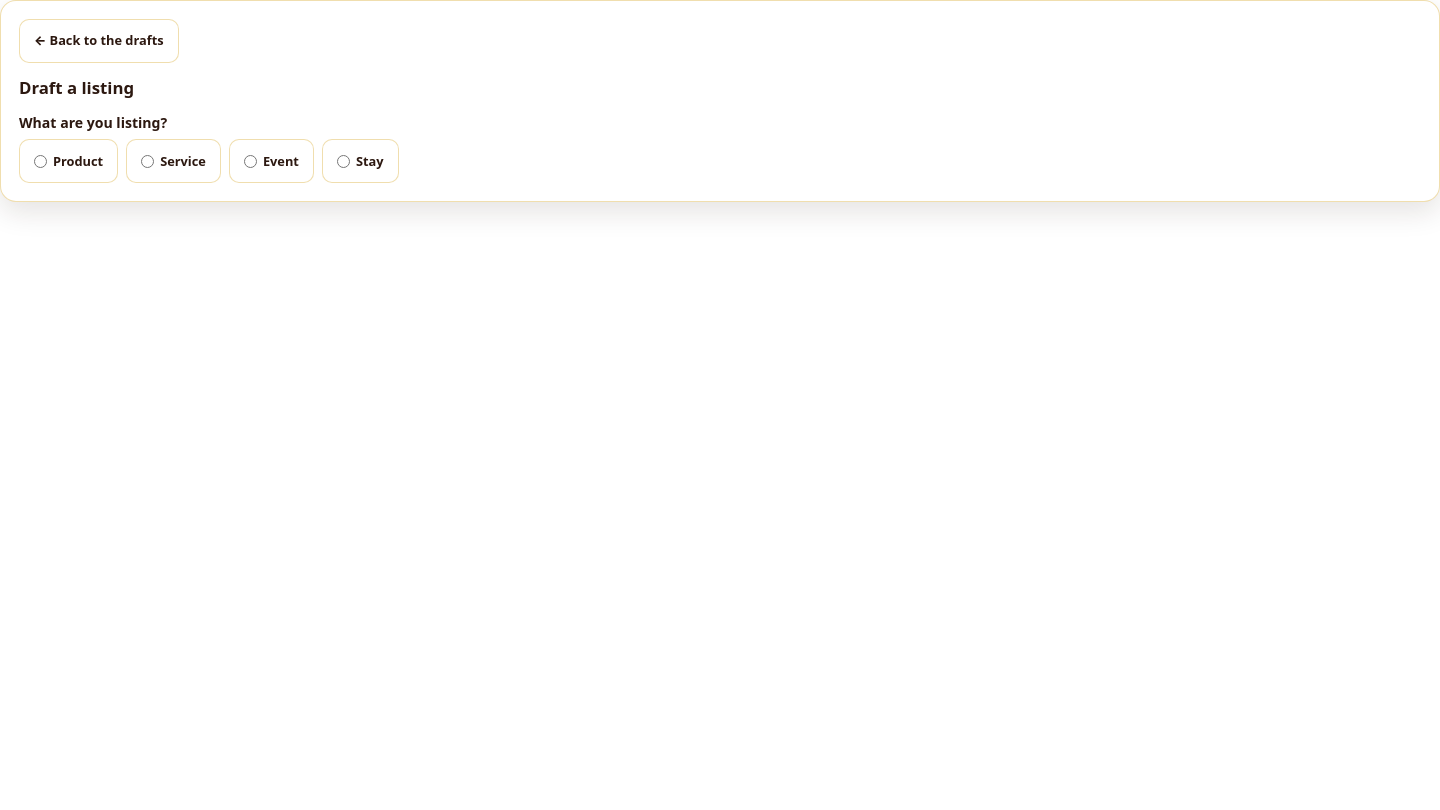
Test: ClientListingForm › shows units and the nightly price for a Stay
Click the radio button labelled "Stay". click: x=343, y=161
box: x1=337 y1=155 x2=350 y2=168
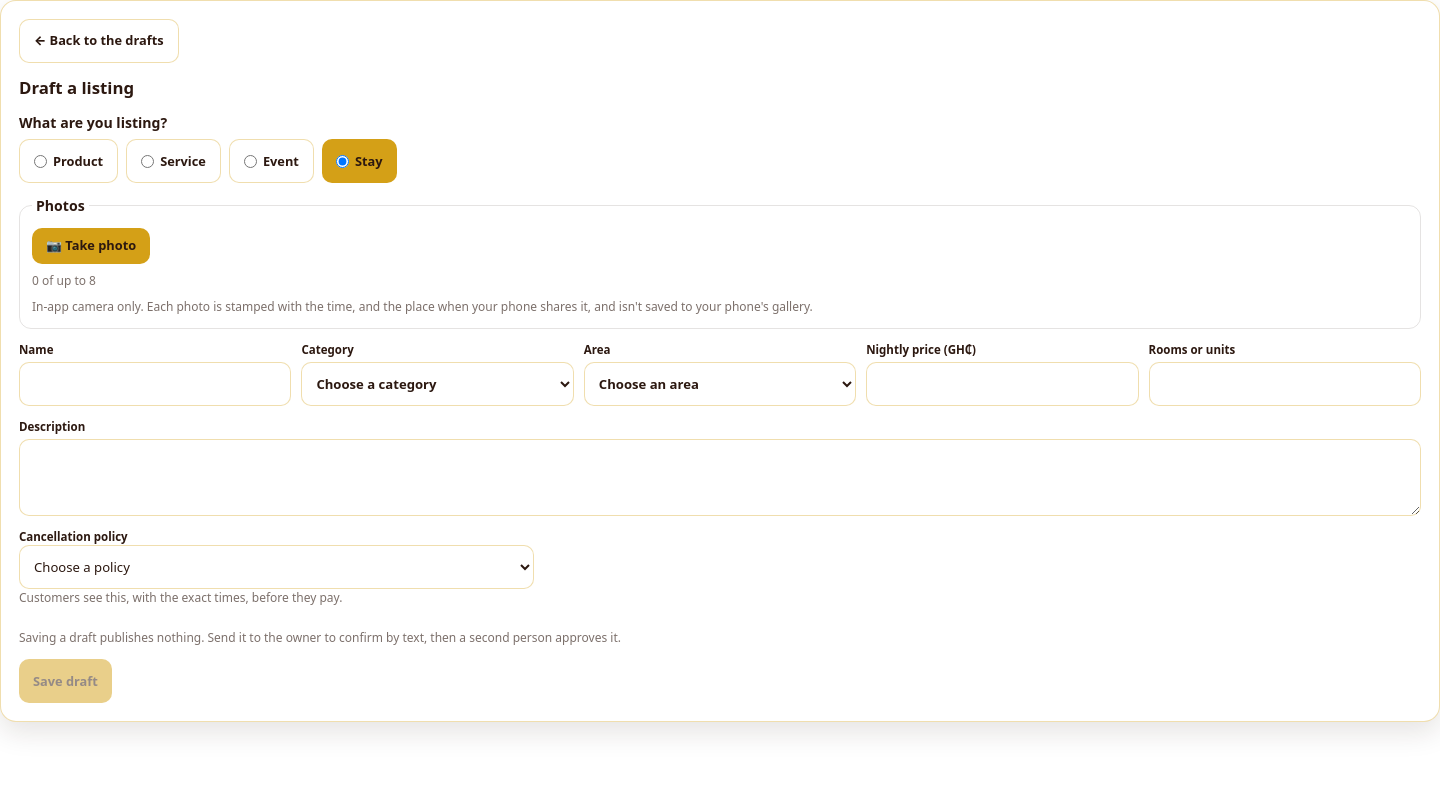
Result: the number field labelled "Rooms or units" is shown at x1=1149 y1=362 x2=1421 y2=406
Result: the number field labelled "Nightly price (GH₵)" is shown at x1=866 y1=362 x2=1139 y2=406
